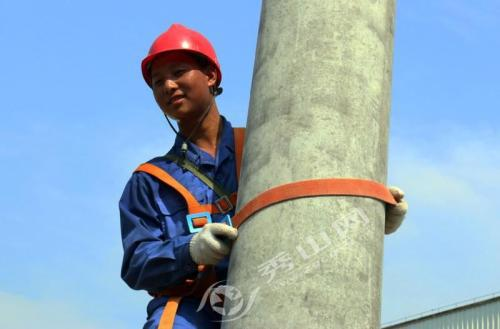helmet: (129, 8, 234, 140)
